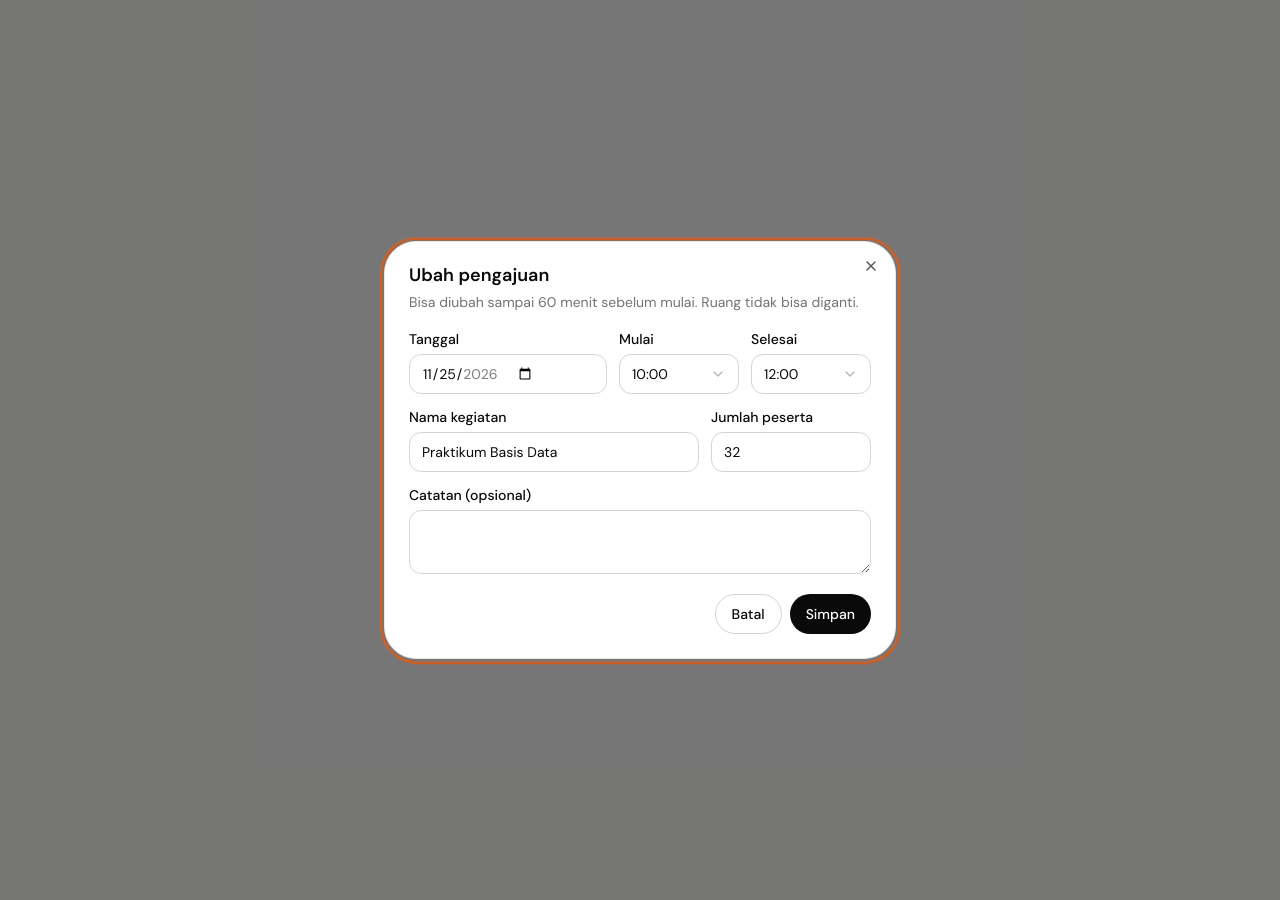
Test: EditDialog › explains a clash with the clashing time
Check: the dialog is shown, box [384,241,896,659]
Replace the text in the field labelled "Nama kegiatan" with "Praktikum" at coordinates (554, 452), box [409,432,699,472]
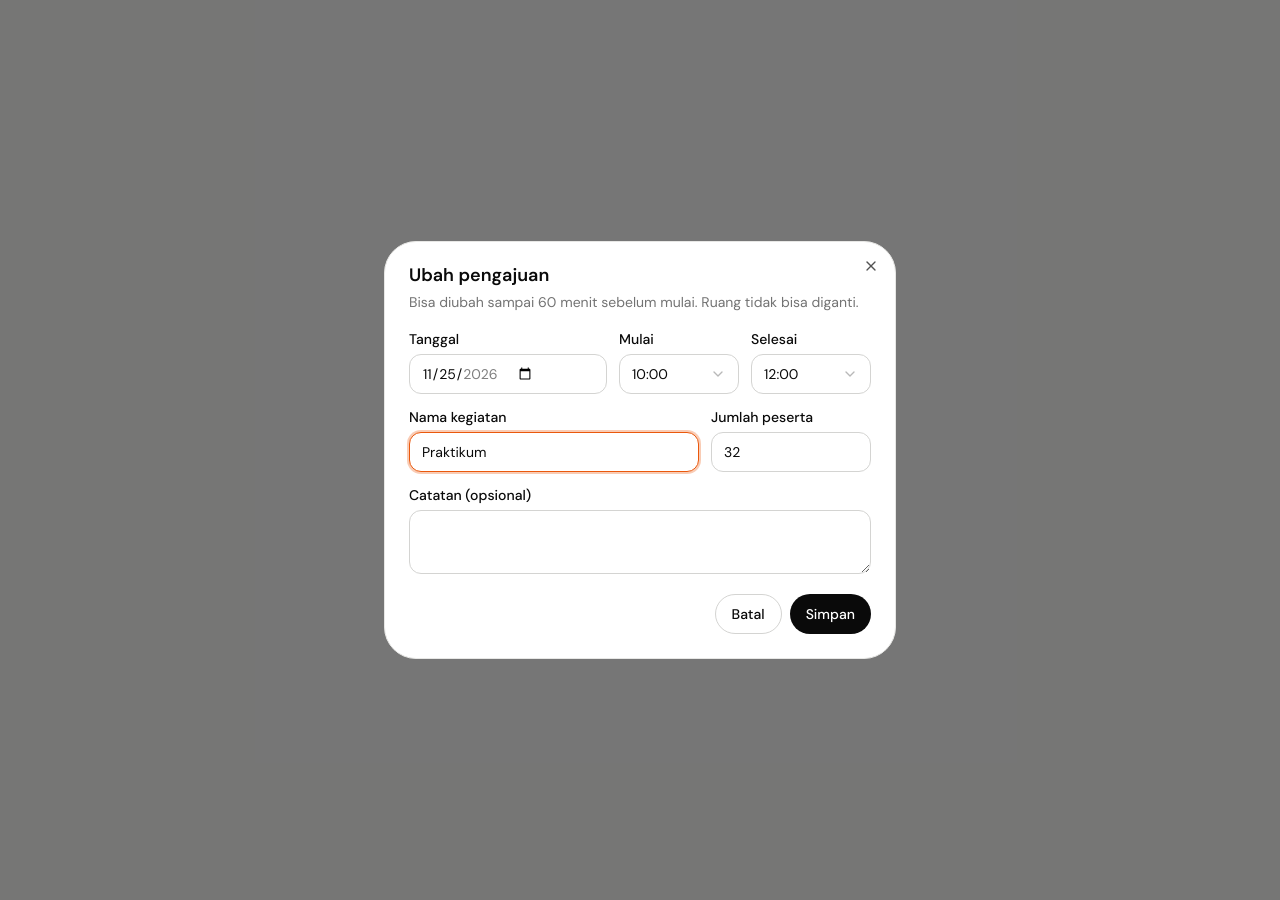
Click the button "Simpan" at coordinates (830, 614), box [790,594,871,634]
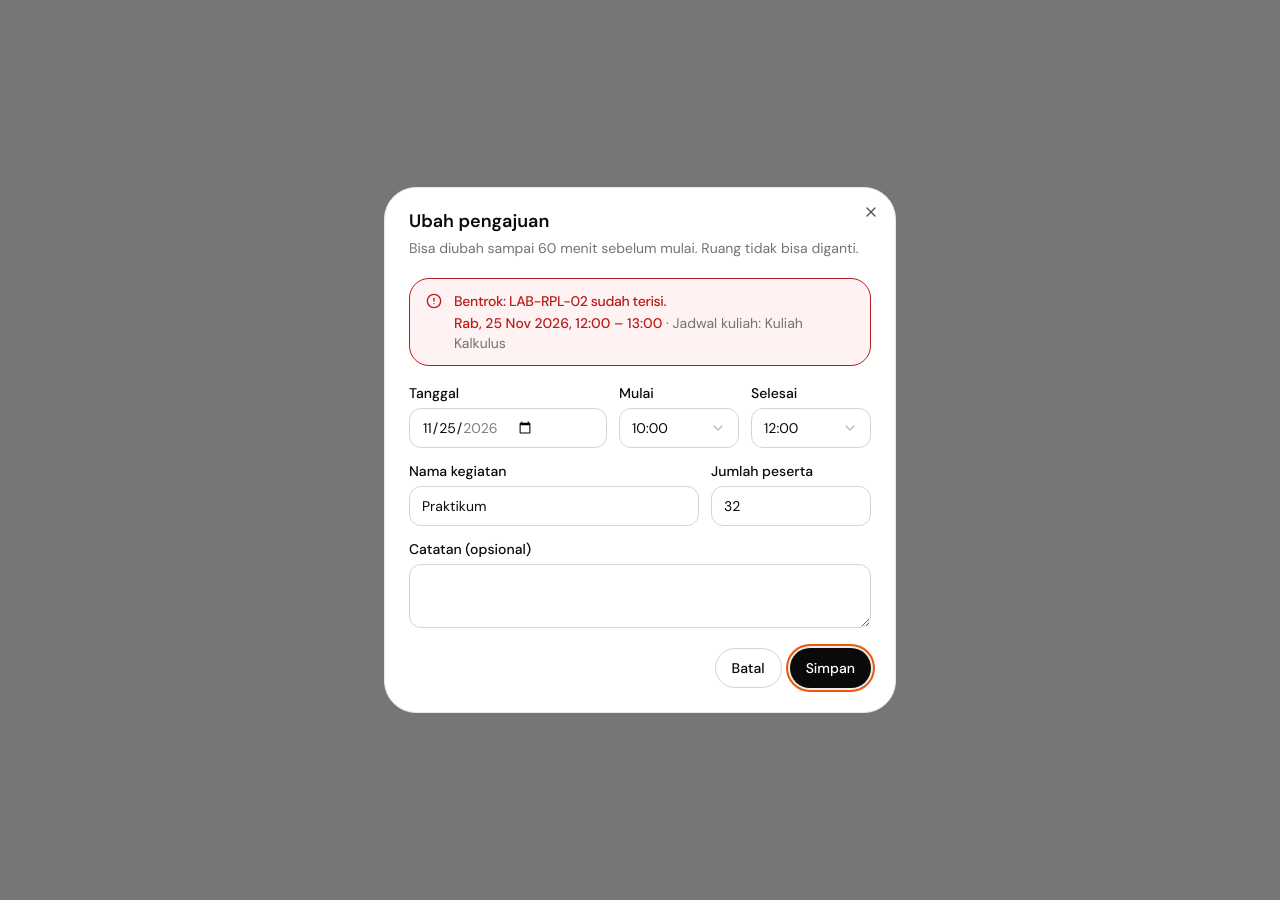
Check: the text "Rab, 25 Nov 2026, 12:00 – 13:00" is shown, box [454,314,662,332]
